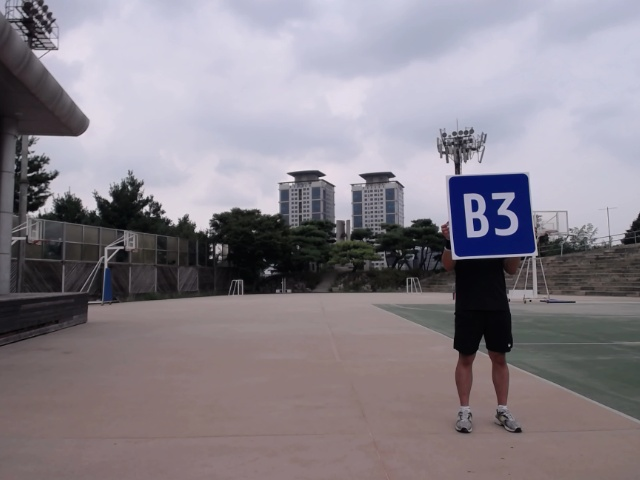delivery_b3: (446, 171, 538, 261)
